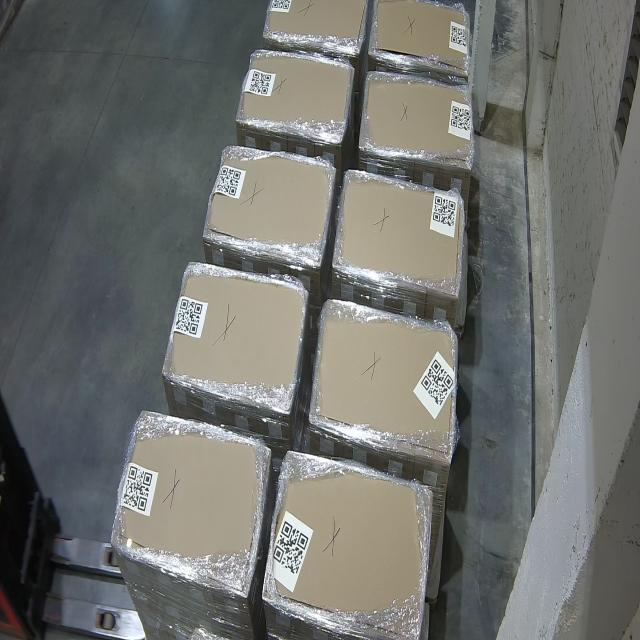pallet: (262, 450, 437, 640), (112, 406, 273, 588), (310, 293, 459, 460), (162, 265, 306, 417), (336, 167, 468, 302), (204, 140, 334, 267), (359, 72, 480, 176), (236, 49, 354, 151), (372, 0, 470, 81), (262, 0, 368, 54)
